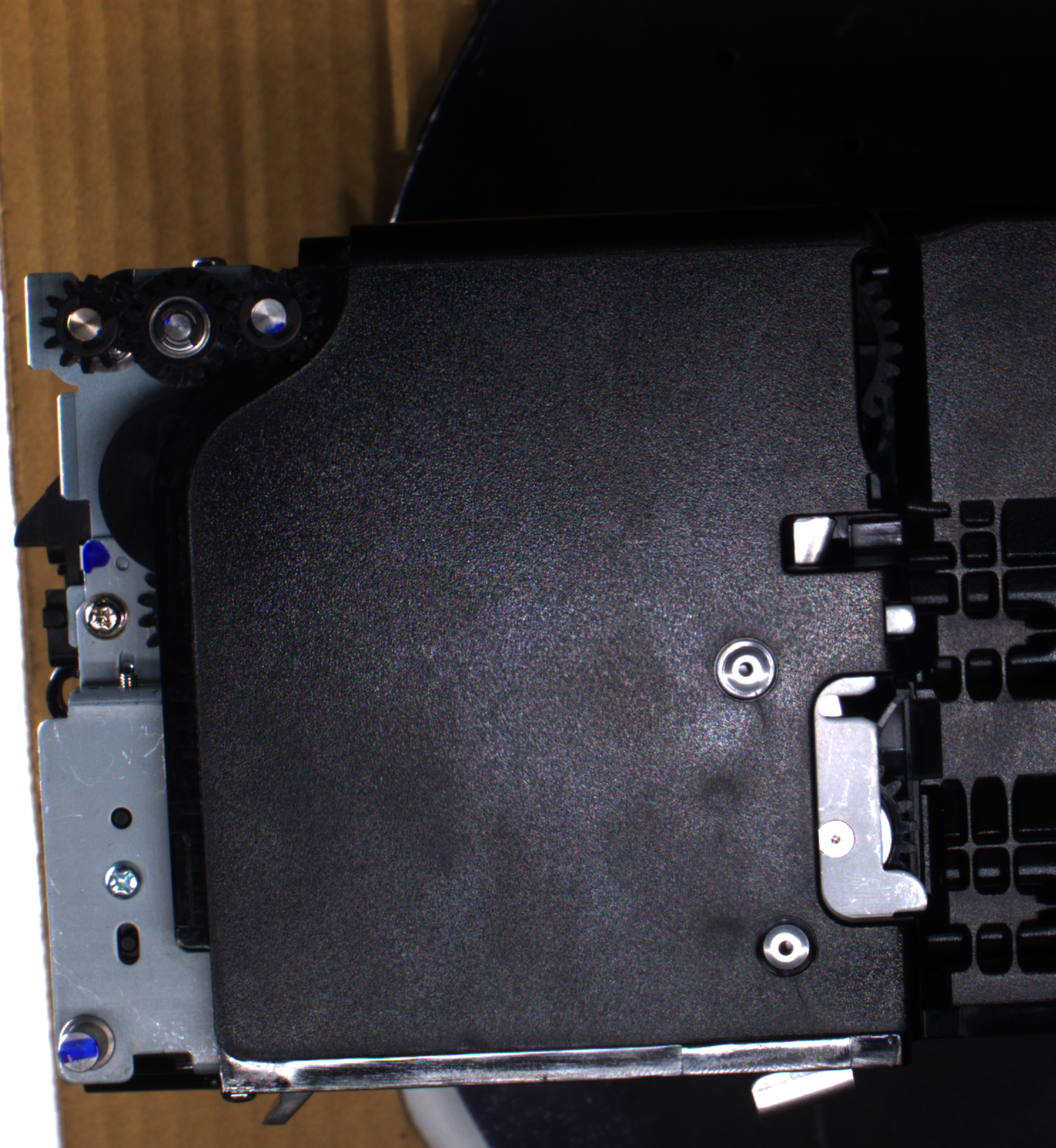centre_pin_presence: (744, 1049, 862, 1117)
centre_plate_presence: (807, 667, 939, 933)
centre_screw_presence: (710, 630, 783, 707), (750, 910, 821, 985)
gear1_presence: (38, 270, 138, 376)
gear2_presence: (121, 268, 234, 387)
gear3_presence: (218, 265, 322, 370)
side_screw_presence: (78, 589, 132, 642), (100, 858, 144, 901)
slanting_pin_presence: (52, 1011, 123, 1079)
